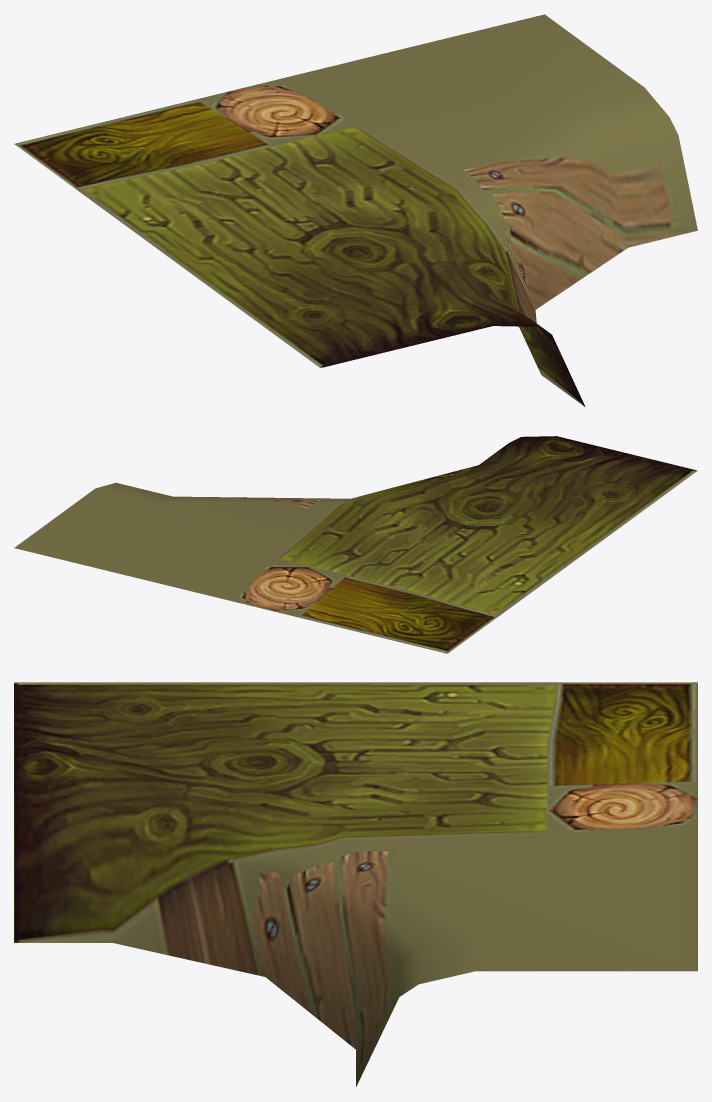
The model's file is ground04.FBX.
3 views of the same model, one above another, from view 1: azimuth 30°, elevation 25°; view 2: azimuth 150°, elevation 25°; view 3: azimuth 270°, elevation 25° (orthographic). The views are drawn at different scales.
Visible parts, largest first — view 1: ground04; view 2: ground04; view 3: ground04.
Boxes of the visible parts, x1,y1,x2,y2 form: ground04: (14, 14, 697, 406); ground04: (14, 436, 697, 653); ground04: (14, 682, 697, 1086).
Bounding box in the file's own units: 4 × 0.75 × 4.
